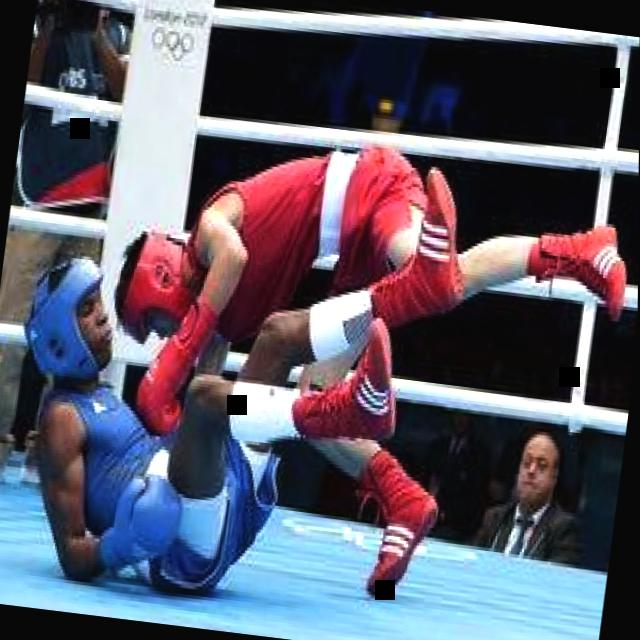Fall-Detected: (1, 225, 450, 608)
